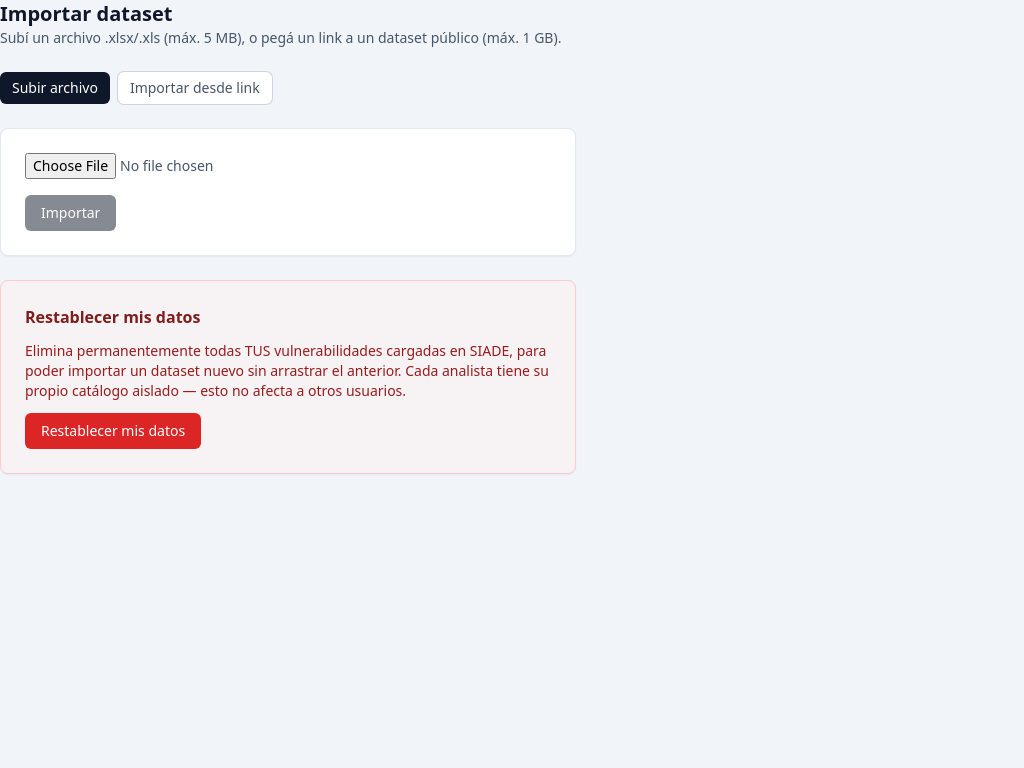
Test case: ImportarDatasetPage — "Restablecer mis datos" (disponible para cualquier analista) › la sección "Restablecer mis datos" es visible, pide confirmación antes de ejecutar, y muestra el resultado
Expected: the heading "Restablecer mis datos" is shown, [25,306,200,328]
Click the button "Restablecer mis datos" at (113, 431), box [25,413,201,449]
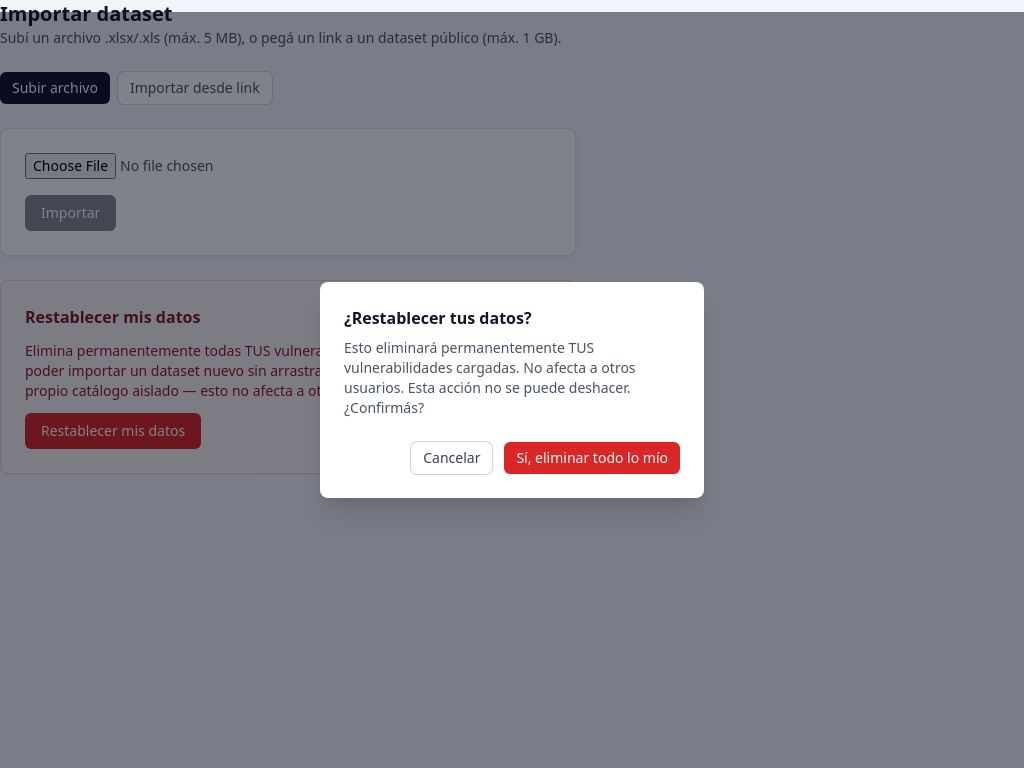
Expected: the dialog is shown
Expected: the text "No afecta a otros usuarios" is shown, [344,338,636,417]
Click the button "Sí, eliminar todo lo mío" at (592, 458), box [504,442,680,474]
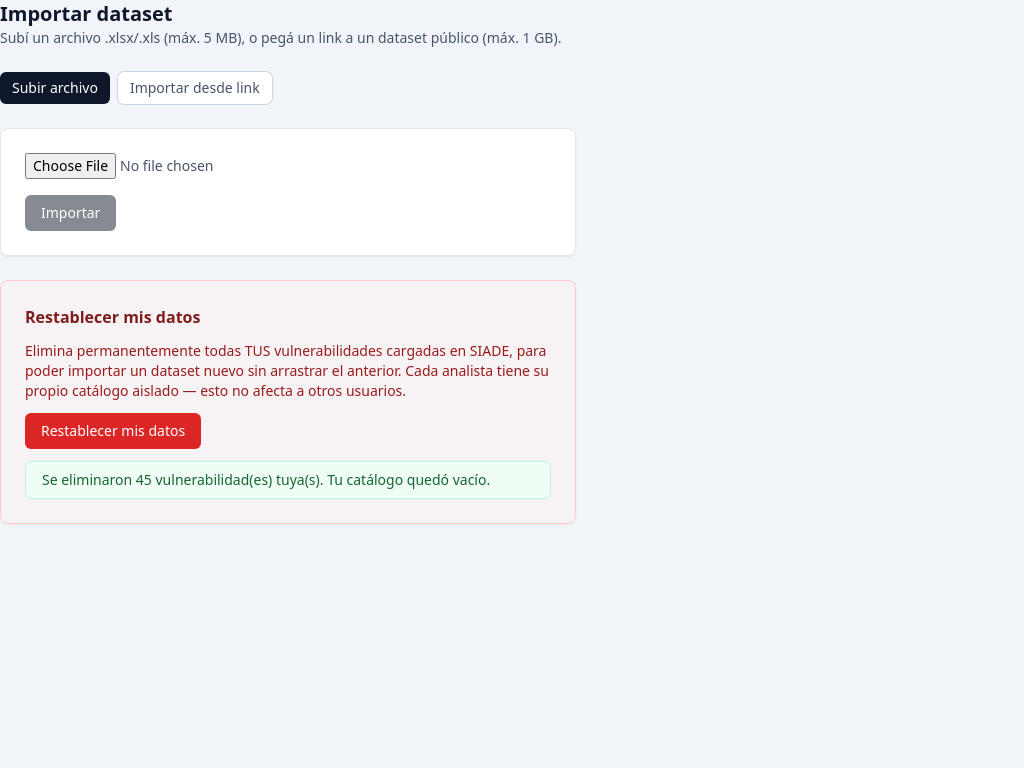
Expected: the text "Se eliminaron 45 vulnerabilidad(es) tuya(s)" is shown, [25,461,551,499]
Expected: the dialog is gone
